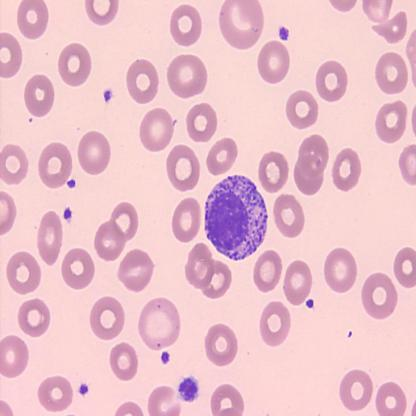Metamyelocyte: (202, 172, 270, 267)
